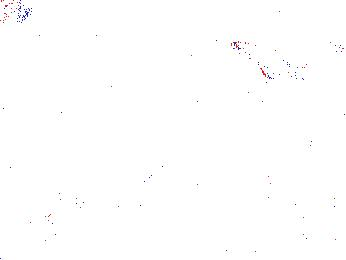X-ray fish: (1, 1, 33, 33)
glassfish: (117, 130, 237, 204)
redtail glassfish: (231, 37, 317, 87)
